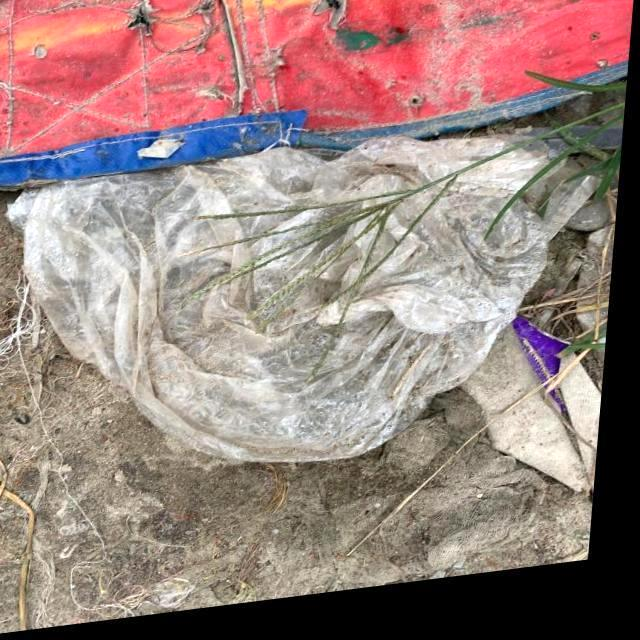polythene: (5, 124, 607, 501)
